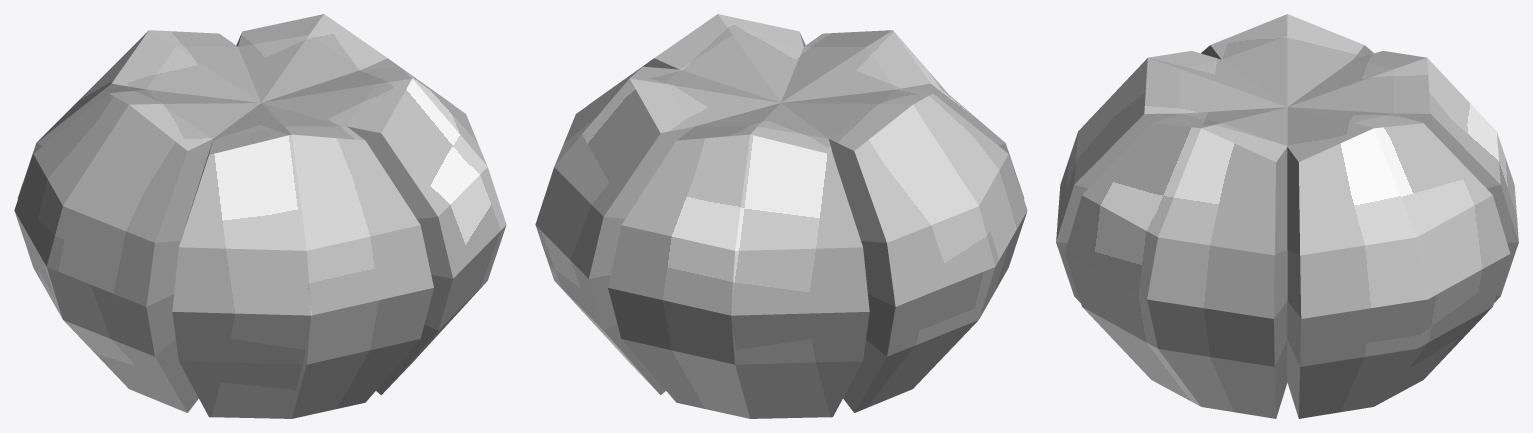
File: PeletPumpkin.fbx
The picture shows the model from 3 angles, left to right: view 1: azimuth 30°, elevation 25°; view 2: azimuth 150°, elevation 25°; view 3: azimuth 270°, elevation 25°; orthographic projection. The views are drawn at different scales.
Parts seen in each view (by area): view 1: sphere; view 2: sphere; view 3: sphere.
Boxes of the visible parts, x1=… form: sphere: x1=14, y1=14, x2=506, y2=418; sphere: x1=535, y1=14, x2=1027, y2=418; sphere: x1=1056, y1=14, x2=1518, y2=418.
Bounding box in the file's own units: 40.75 × 26.4 × 38.86.
